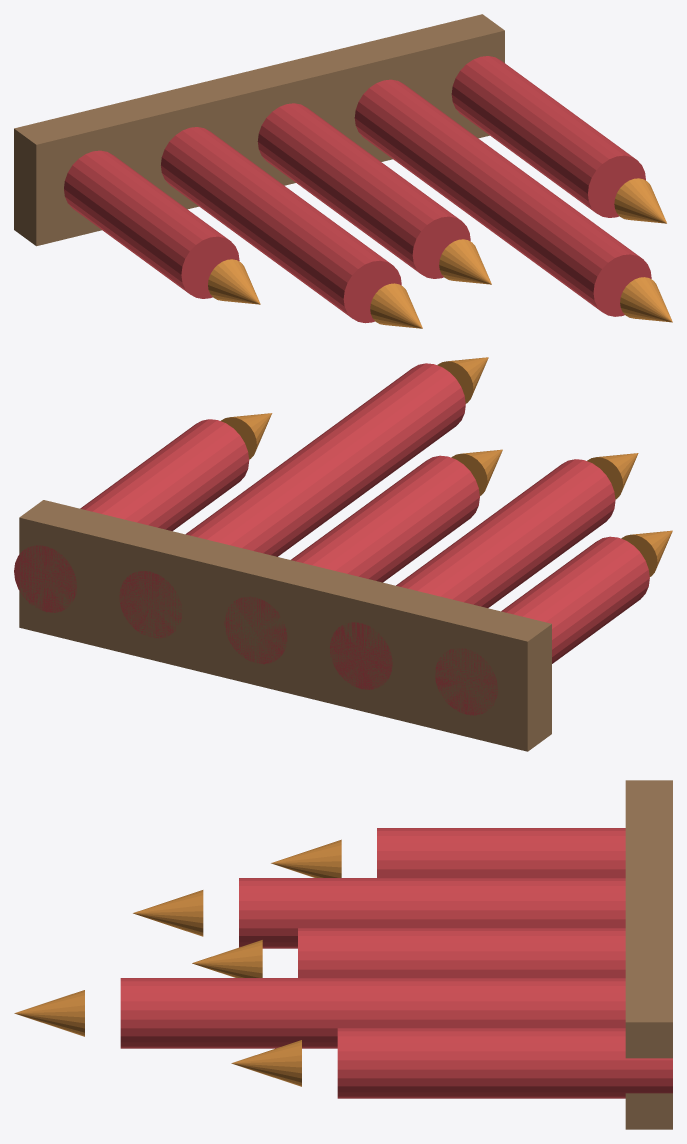
The model's file is obstacle_red_candle_barrier.glb.
The picture shows the model from 3 angles, top to bottom: view 1: azimuth 30°, elevation 25°; view 2: azimuth 150°, elevation 25°; view 3: azimuth 270°, elevation 25°; orthographic projection. The views are drawn at different scales.
Parts seen in each view (by area): view 1: base, candle_3, candle_1, candle_2, candle_4, candle_0, flame_4, flame_1, flame_2, flame_0, flame_3; view 2: base, candle_3, candle_1, candle_2, candle_4, candle_0, flame_2, flame_0, flame_3, flame_1, flame_4; view 3: candle_3, candle_4, candle_1, candle_2, base, candle_0, flame_1, flame_4, flame_3, flame_0, flame_2.
Boxes of the visible parts, x1,y1,x2,y2 form: base: (14, 14, 504, 246); candle_3: (354, 79, 651, 316); candle_1: (161, 127, 401, 323); candle_2: (257, 103, 470, 278); candle_4: (451, 56, 645, 217); candle_0: (64, 150, 239, 298); flame_4: (614, 178, 666, 223); flame_1: (370, 283, 422, 328); flame_2: (439, 239, 491, 284); flame_0: (208, 259, 260, 304); flame_3: (620, 277, 672, 322); base: (19, 500, 551, 751); candle_3: (119, 363, 465, 638); candle_1: (330, 459, 615, 689); candle_2: (224, 455, 479, 664); candle_4: (14, 419, 249, 612); candle_0: (435, 536, 649, 715); flame_2: (451, 449, 502, 495); flame_0: (621, 530, 672, 576); flame_3: (437, 357, 488, 403); flame_1: (587, 453, 638, 499); flame_4: (221, 413, 272, 459); candle_3: (120, 978, 625, 1048); candle_4: (337, 1028, 672, 1098); candle_1: (239, 878, 625, 948); candle_2: (298, 928, 625, 977); base: (625, 780, 672, 1129); candle_0: (377, 828, 625, 877); flame_1: (133, 890, 203, 936); flame_4: (231, 1040, 301, 1086); flame_3: (14, 990, 84, 1036); flame_0: (271, 839, 341, 877); flame_2: (192, 940, 262, 977).
Size of the model in its own units: 1.47 by 0.3 by 1.67.
